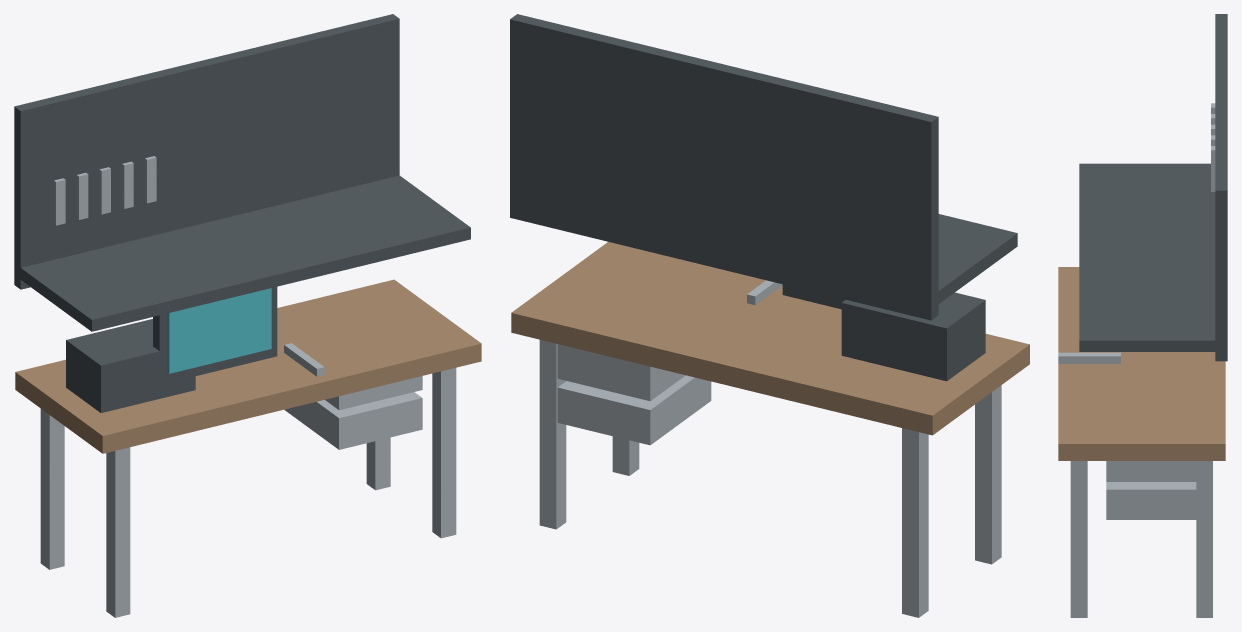
Rendered from electronics_bench.glb.
3 renders of one model, left to right at view 1: azimuth 30°, elevation 25°; view 2: azimuth 150°, elevation 25°; view 3: azimuth 270°, elevation 25°, orthographic. The views are drawn at different scales.
Visible parts, largest first — view 1: electronics_bench; view 2: electronics_bench; view 3: electronics_bench.
Boxes of the visible parts, x1,y1,x2,y2 form: electronics_bench: [14, 14, 481, 617]; electronics_bench: [510, 14, 1029, 617]; electronics_bench: [1058, 14, 1227, 617].
Size of the model in its own units: 2 by 2.3 by 0.81.
